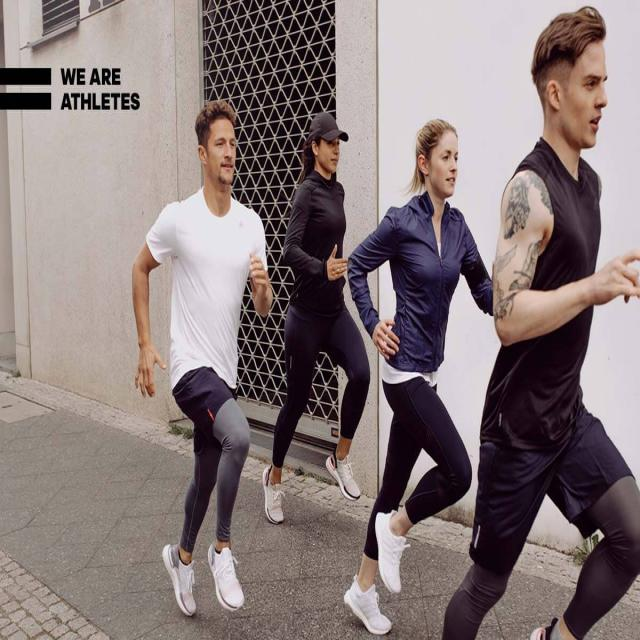Person: (443, 1, 639, 640), (344, 118, 496, 635), (132, 100, 273, 618), (262, 112, 370, 525)
